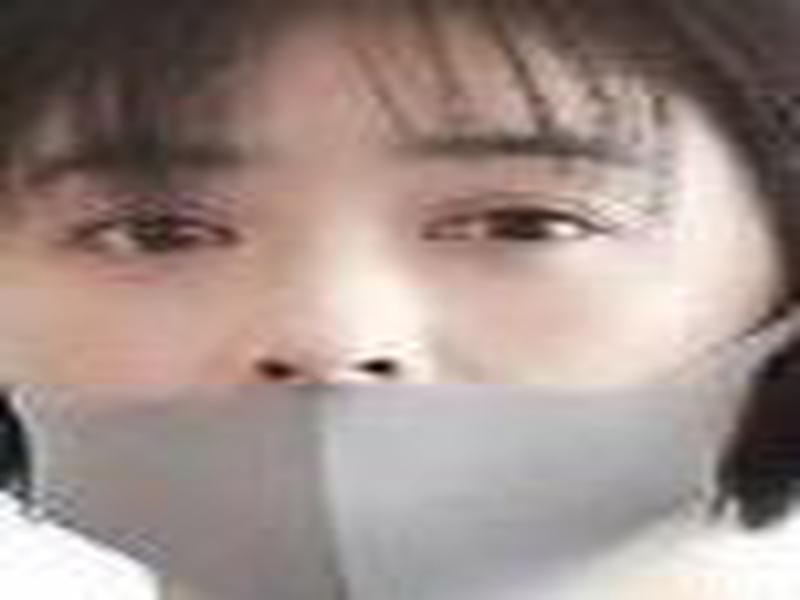with_mask: (1, 16, 786, 600)
